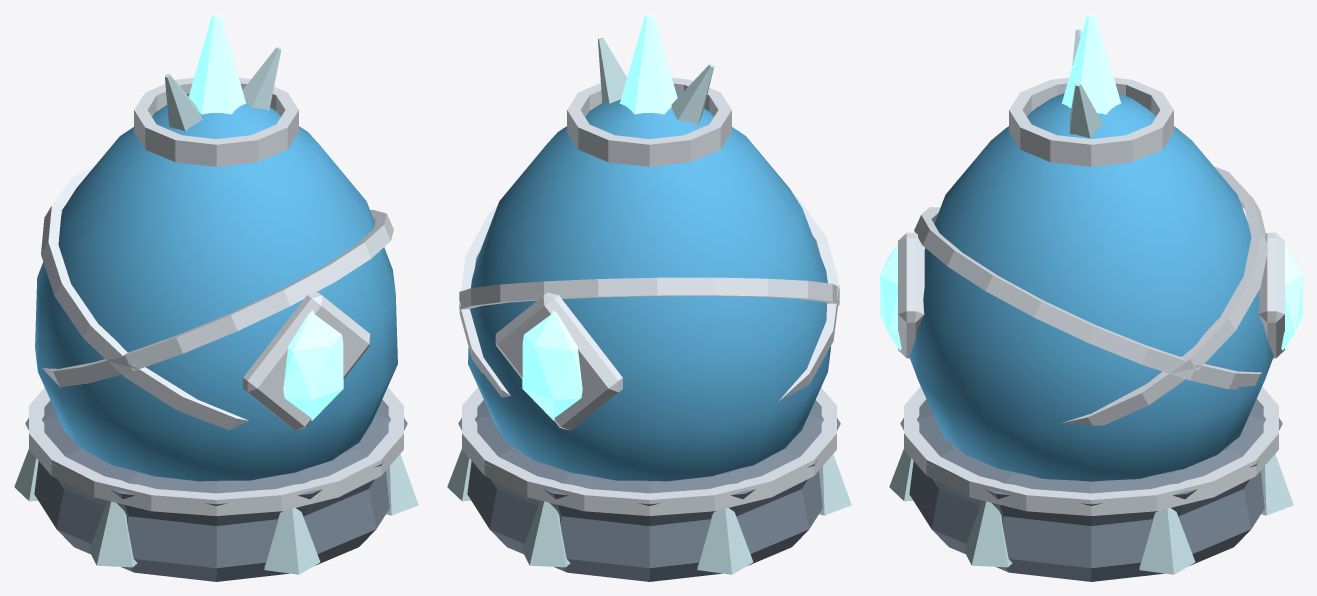
Rendered from BossEgg_Frostbite.glb.
3 views of the same model, side by side, from view 1: azimuth 30°, elevation 25°; view 2: azimuth 150°, elevation 25°; view 3: azimuth 270°, elevation 25° (orthographic).
Visible parts, largest first — view 1: BossEgg_Frostbite; view 2: BossEgg_Frostbite; view 3: BossEgg_Frostbite.
Boxes of the visible parts, x1,y1,x2,y2 form: BossEgg_Frostbite: (14, 14, 418, 581); BossEgg_Frostbite: (447, 14, 851, 581); BossEgg_Frostbite: (880, 14, 1302, 581).
Size of the model in its own units: 3.44 by 4.92 by 3.8.
